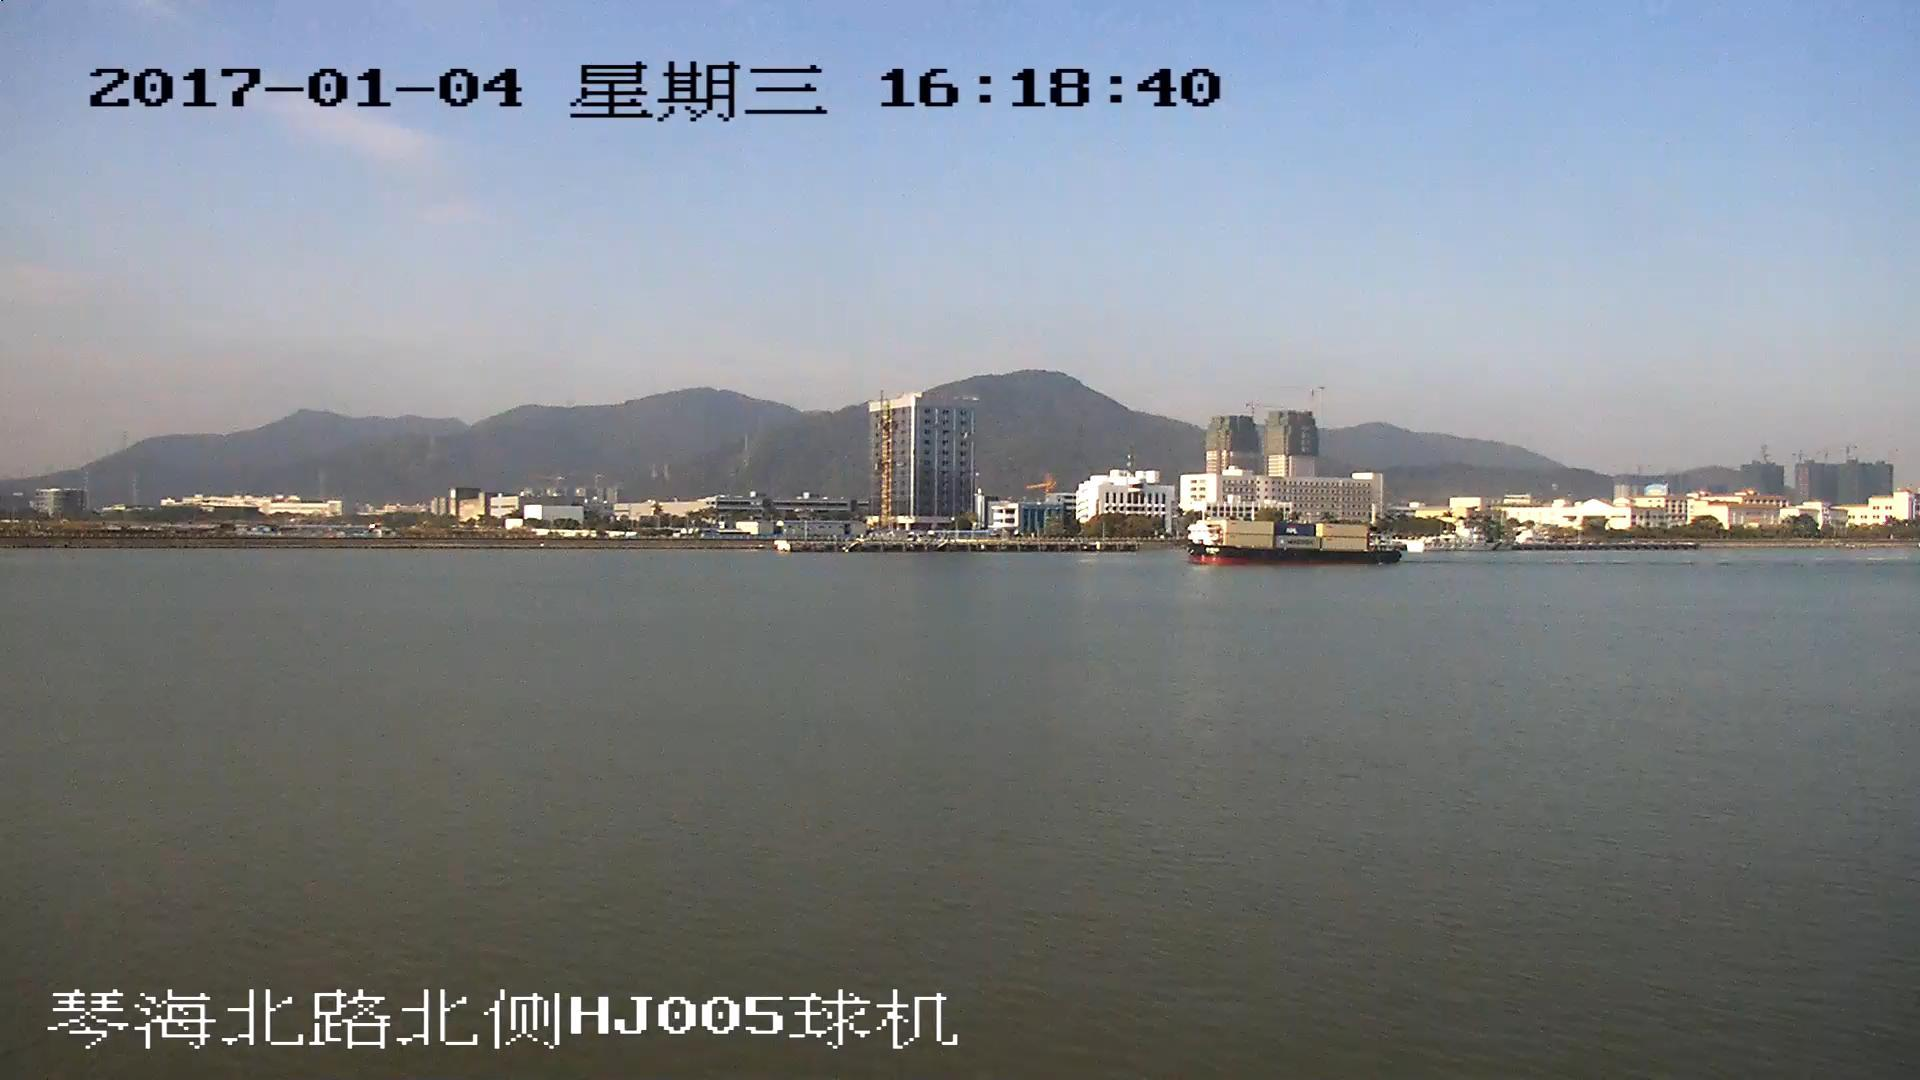Ship: (1192, 516, 1403, 566)
